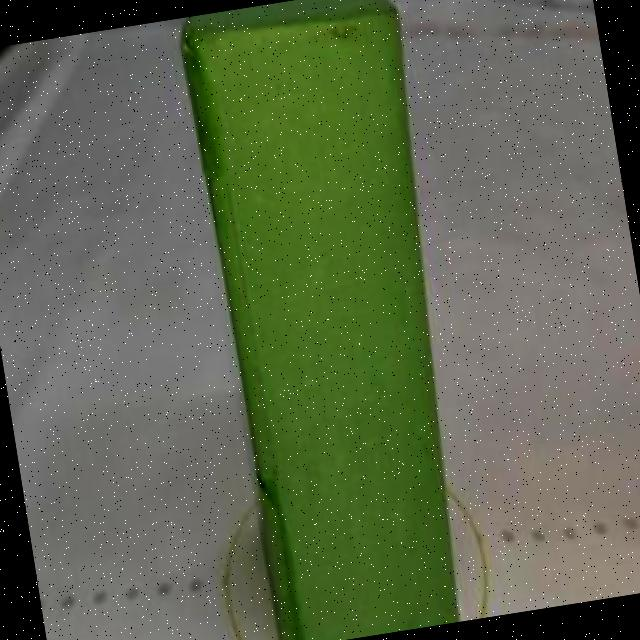greenbox: (168, 0, 503, 640)
